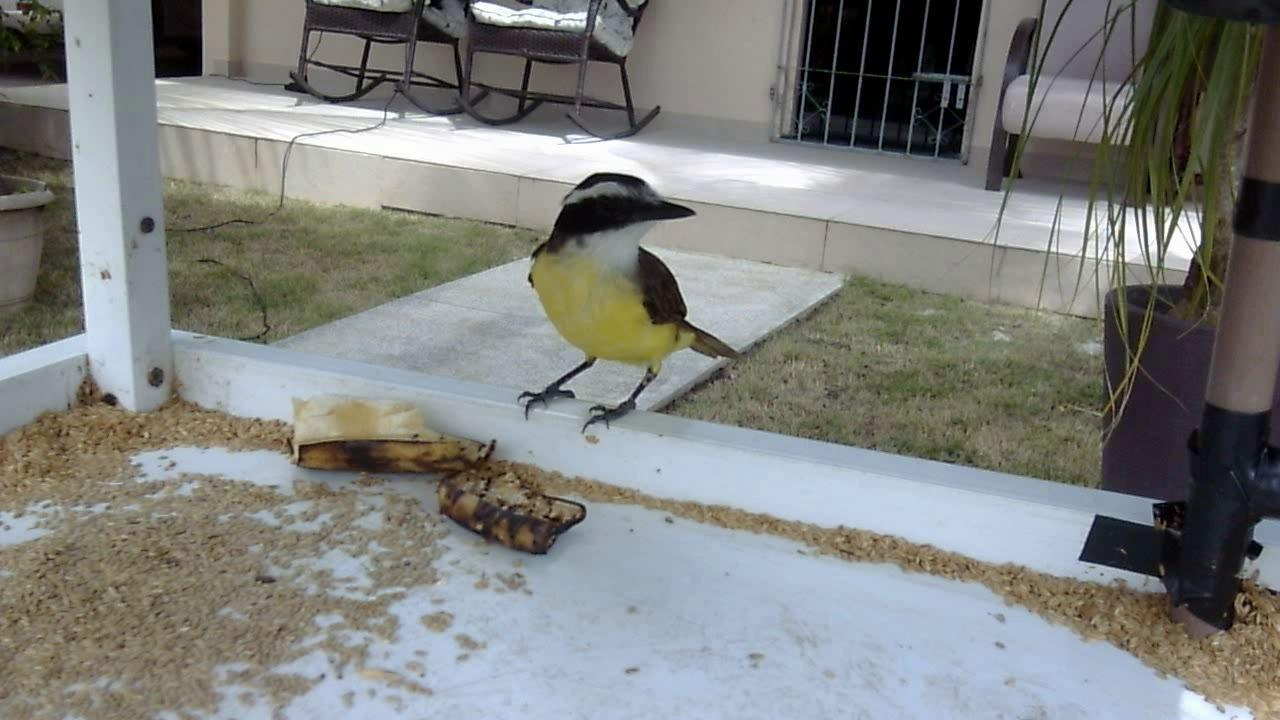bem_te_vi: (504, 165, 750, 449)
